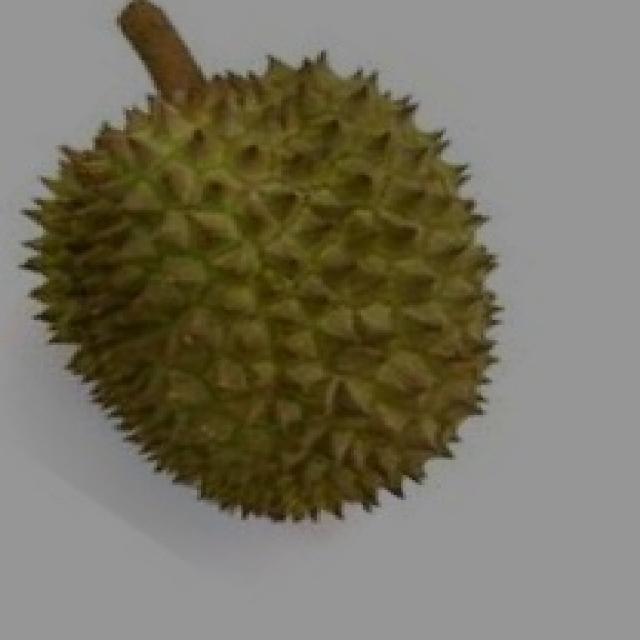fruit: (9, 213, 369, 575)
